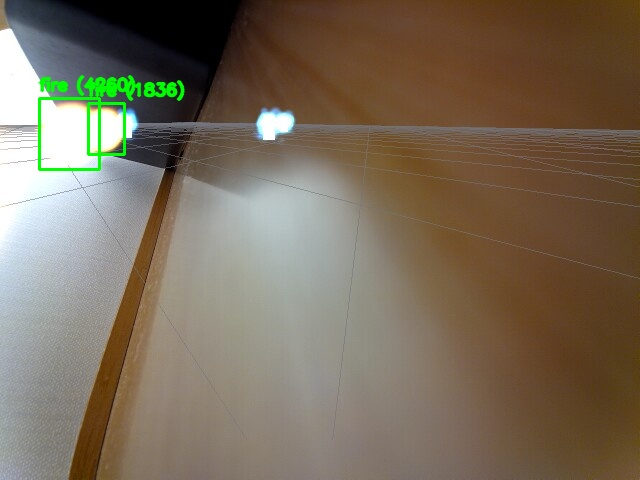fire: (39, 98, 99, 169), (88, 103, 124, 154)
